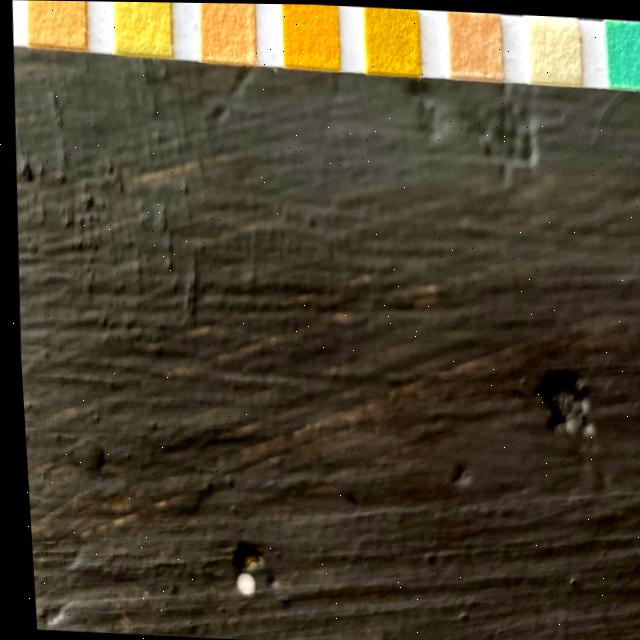Bilirubin: (522, 16, 580, 82)
Blood: (279, 3, 336, 67)
Glucose: (601, 19, 640, 86)
Ketone: (444, 9, 500, 77)
Protein: (112, 1, 169, 52)
SpGravity: (363, 5, 418, 72)
Urobilinogen: (27, 0, 83, 44)
pH: (196, 2, 253, 62)
